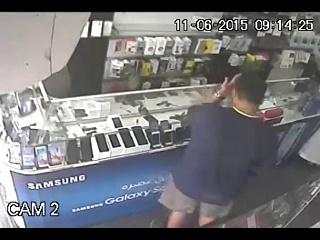Normal: (157, 68, 279, 227)
